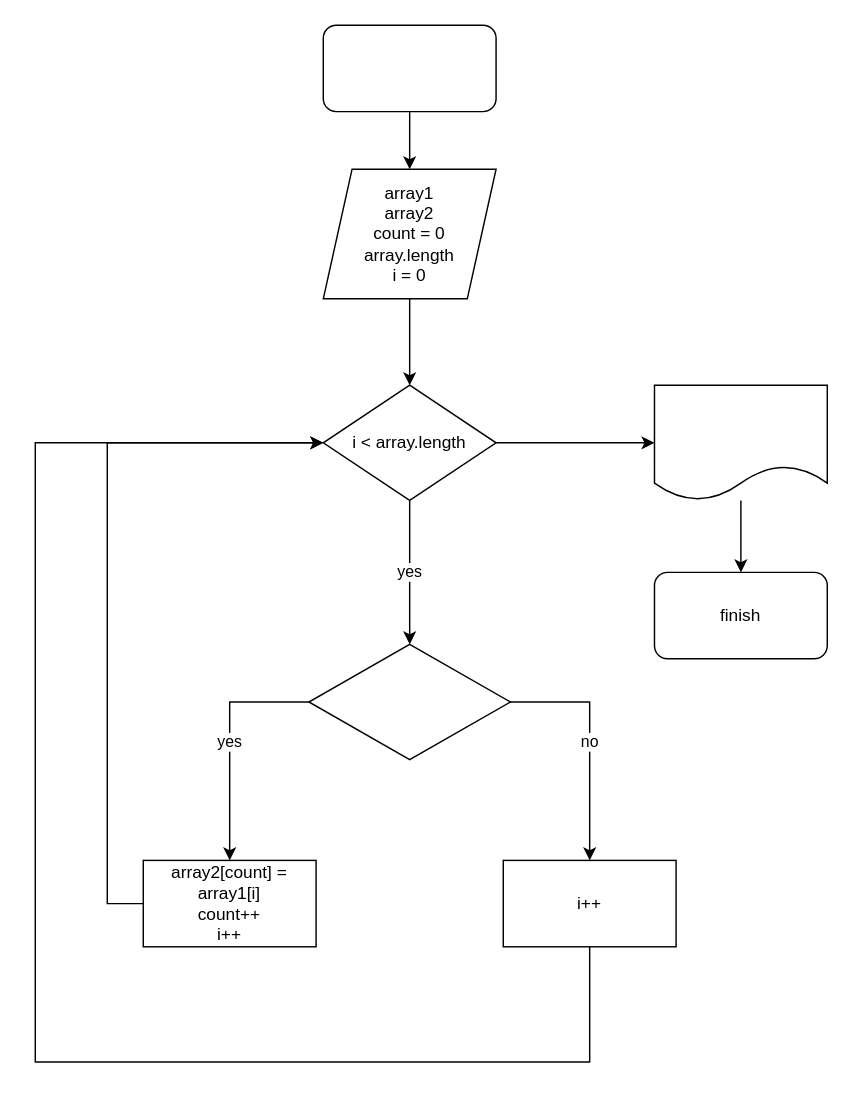
Image size: 852x1099. Some labels were removed from this diagram. The box of each missing label's shape, as (x1, y1, x2, y2) in pixels:
array1[i].Length <= 3: (307, 643, 510, 760)
array2: (653, 384, 827, 500)
start: (322, 24, 496, 112)
